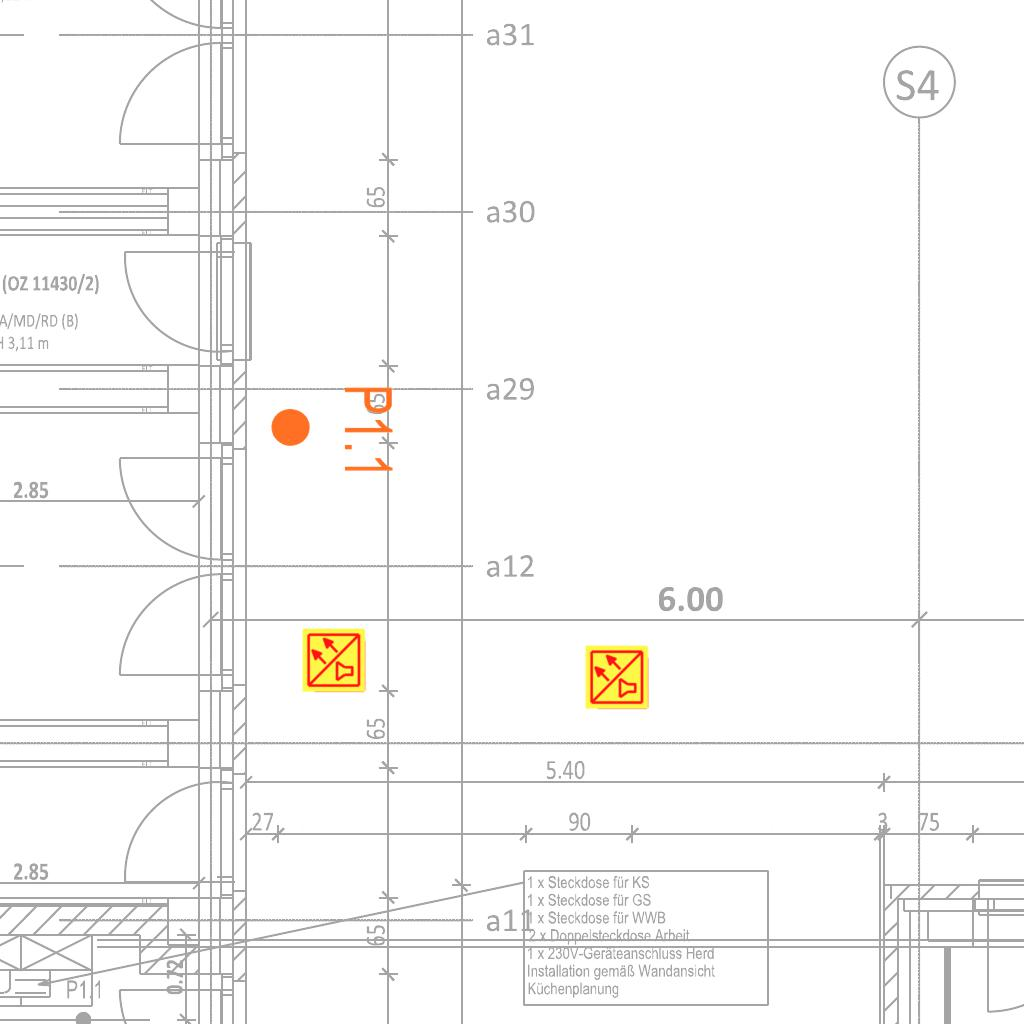Downlight_LED_Einbauleuchten_Flur: (268, 384, 396, 477)
OKW_Multisensormelder_(Kombination_optischer_Rauch-Kahlenmonoxid_Waerme-Melder): (584, 644, 650, 710), (301, 627, 367, 693)
